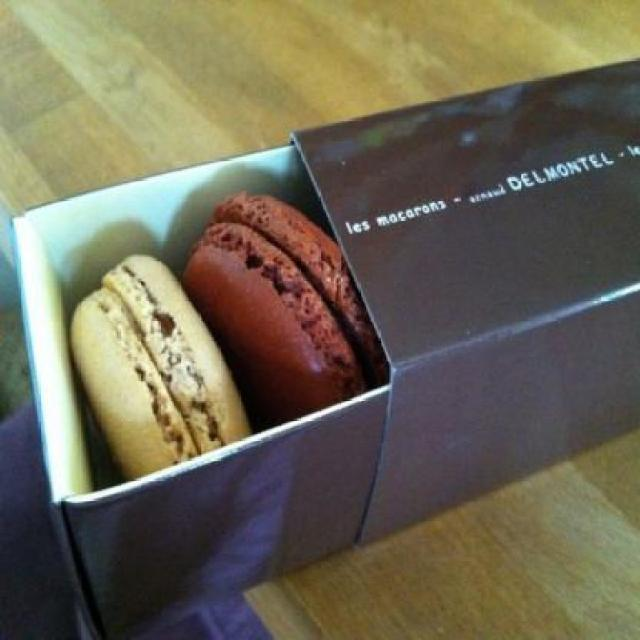Macaron: (62, 196, 380, 482)
